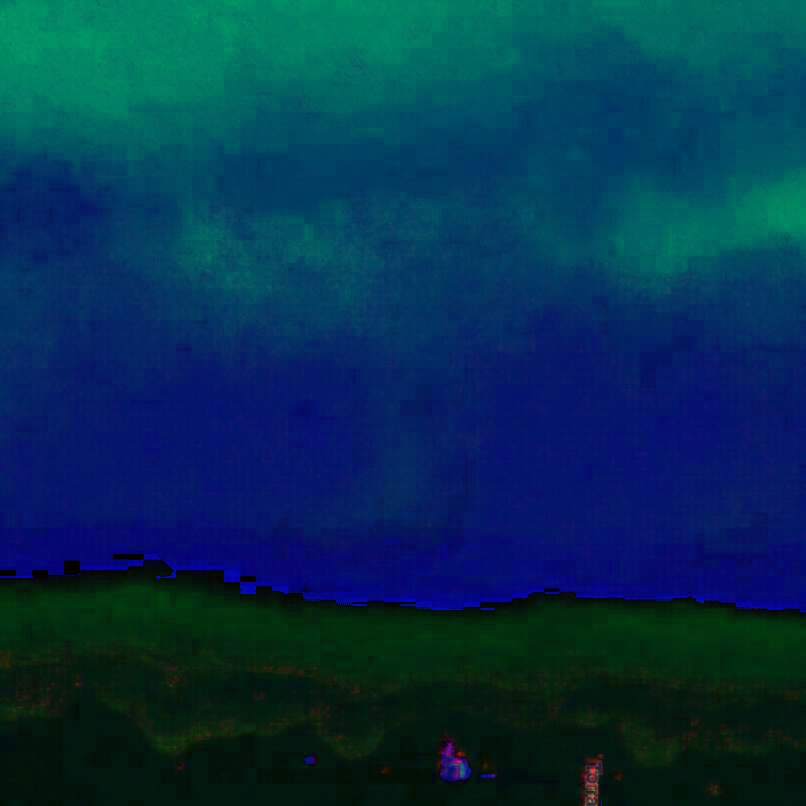rip_current: (319, 248, 537, 570)
